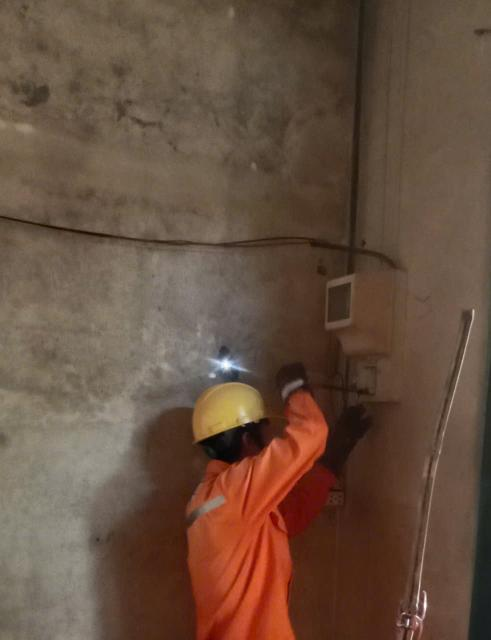gloves: (311, 393, 382, 478), (269, 357, 321, 408)
helmet: (186, 371, 275, 436)
